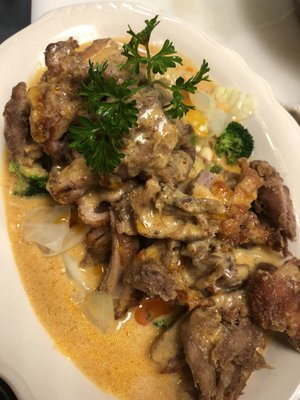curry: (165, 58, 211, 120), (214, 121, 255, 165)
